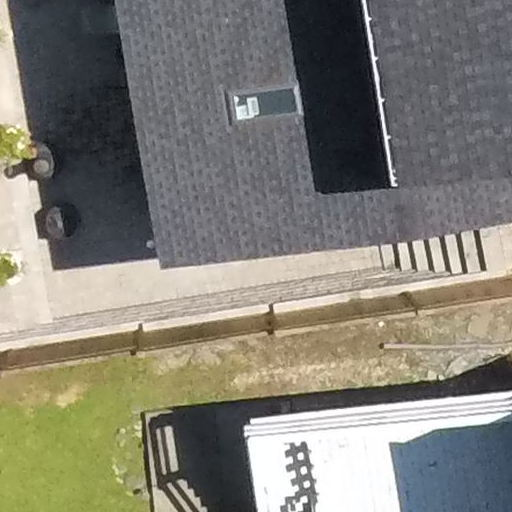flower pot: (1, 117, 30, 175), (1, 250, 29, 289)
gutter: (376, 328, 512, 360)
porch: (214, 381, 512, 510)
